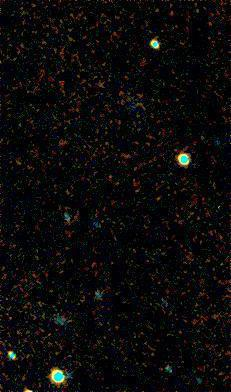star: (97, 165, 127, 195)
